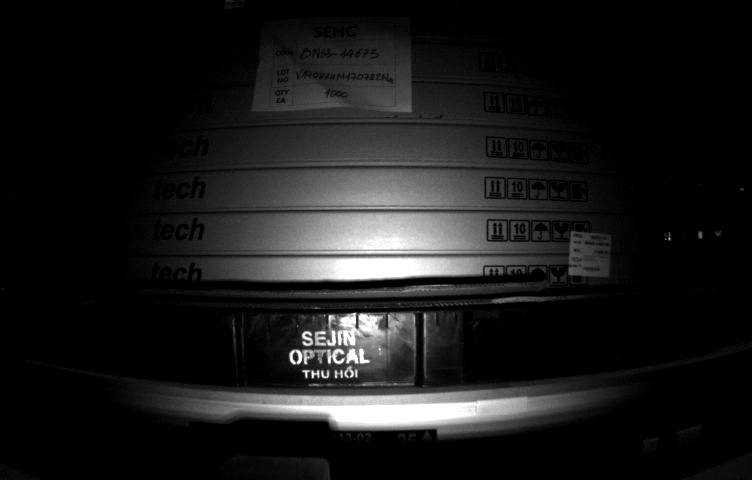True Barcode: (567, 229, 614, 282)
